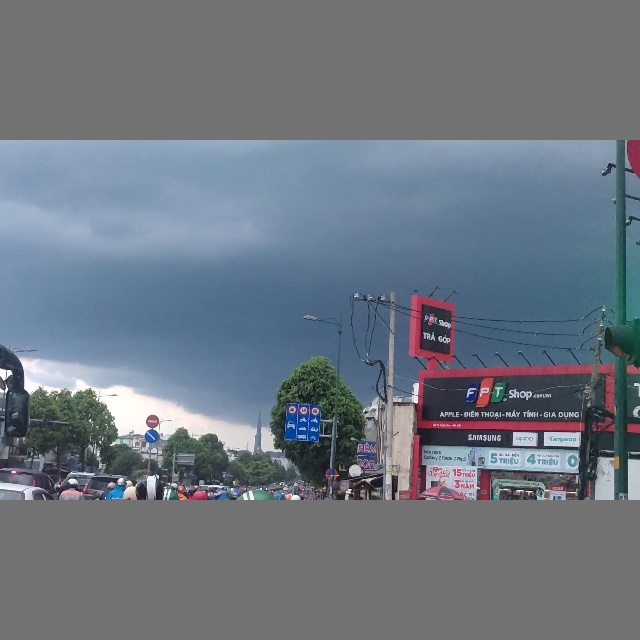P.102: (146, 414, 159, 429)
R.302a: (145, 429, 159, 443)
R.415a: (285, 402, 320, 441)
